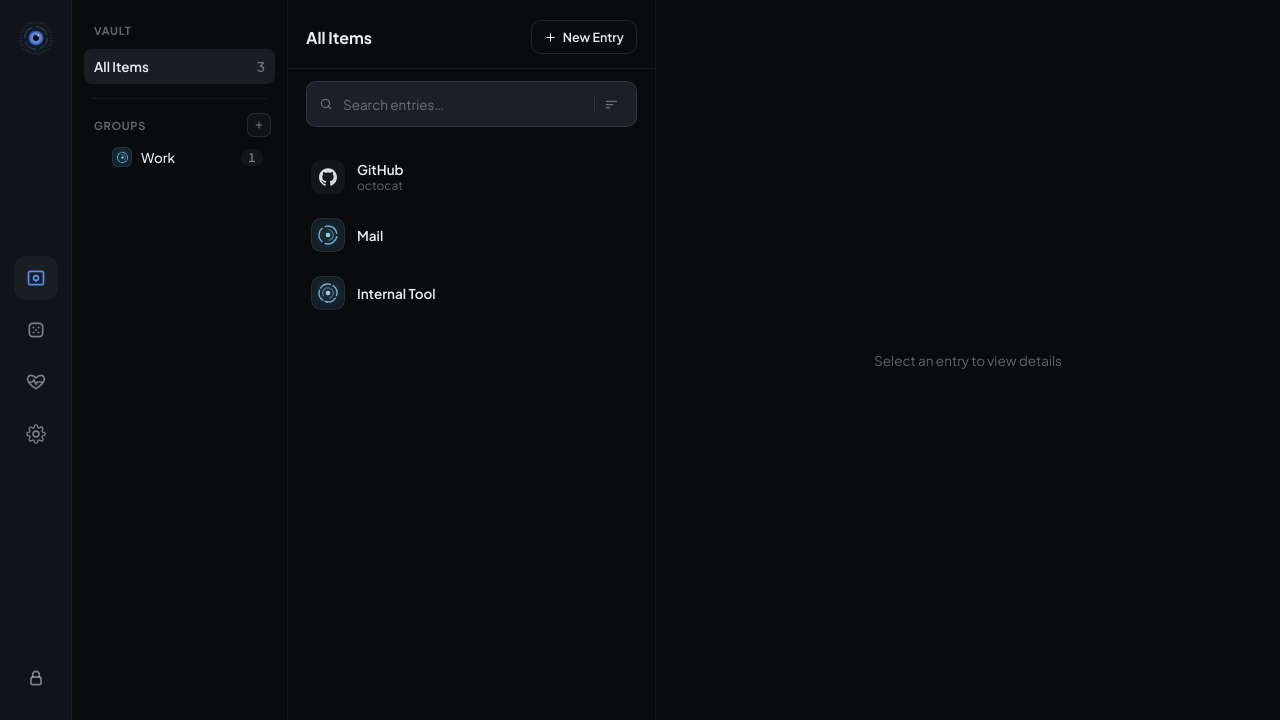
Test: VaultShell › searches across all groups by title/username/URL/notes/tags/custom fields, case-insensitively
# Narrow to a single group first, to prove search overrides group scope.
Click the button "Work 1" at x=188, y=157, box x1=108 y1=139 x2=267 y2=175
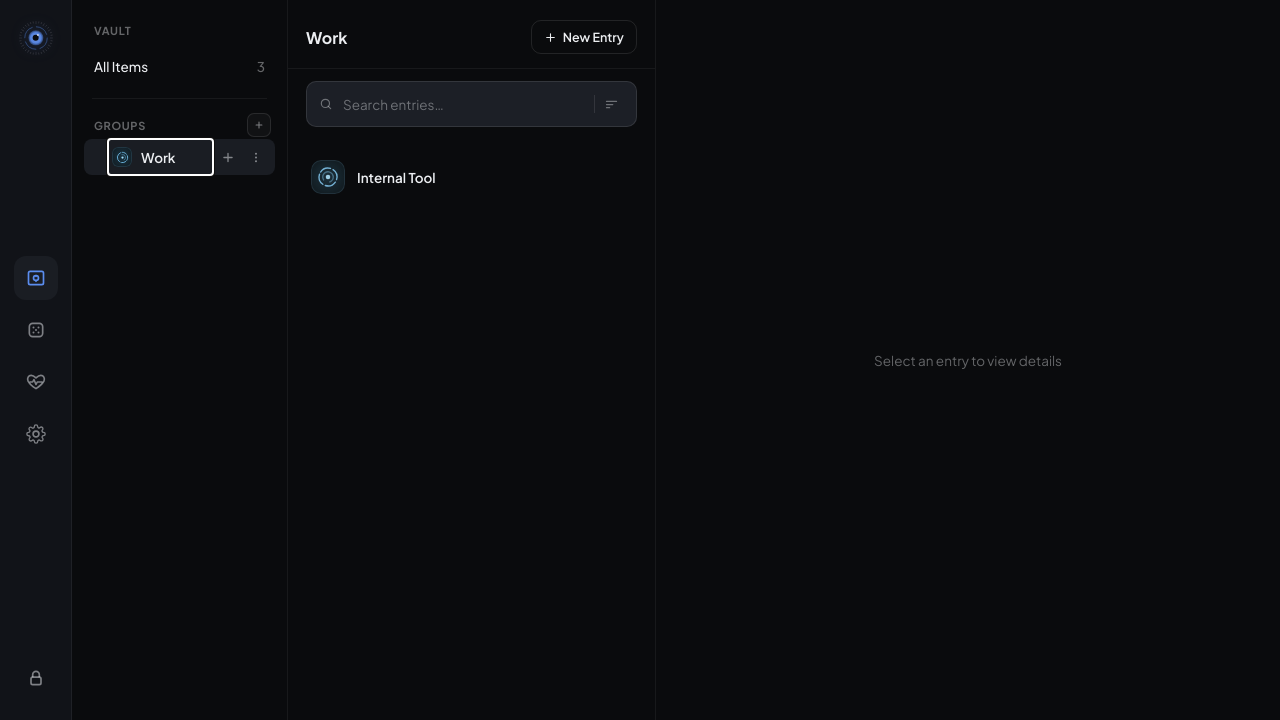
Type "GITHUB" into the field labelled "Search entries" at x=466, y=104, box x1=341 y1=94 x2=590 y2=114
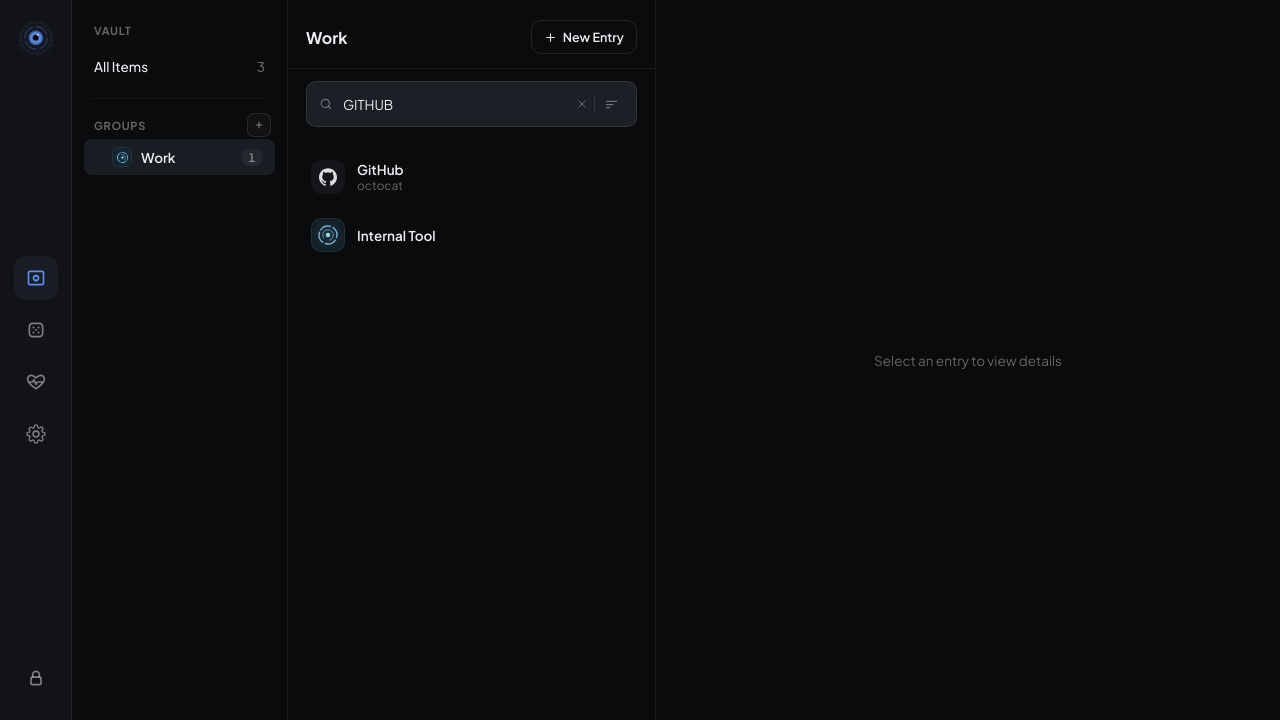
Expected: the text "Internal Tool" is shown, x1=357 y1=226 x2=436 y2=244
Result: the text "GitHub" is shown at x1=357 y1=161 x2=404 y2=178
